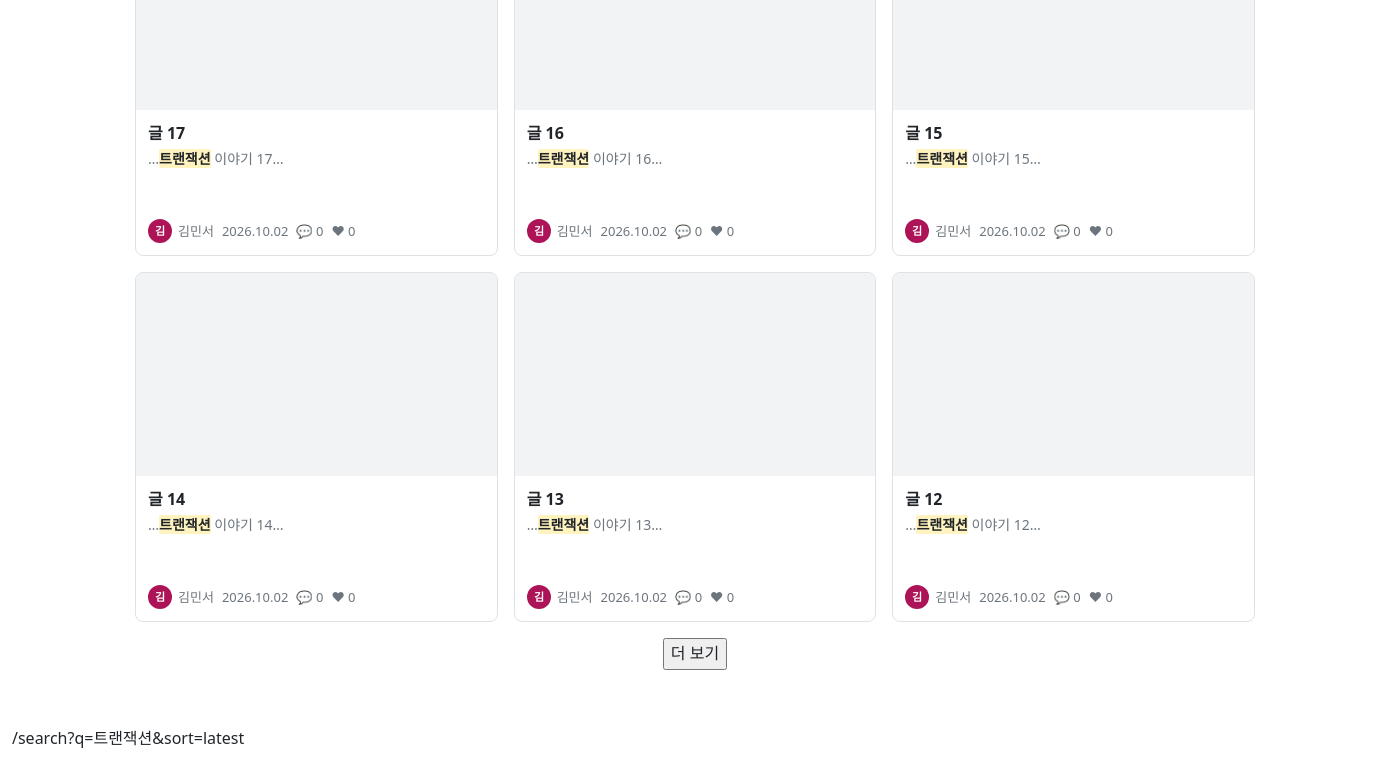
Test: SearchPage › [더 보기]는 nextCursor를 그대로 보내고 아래에 이어 붙인다
(page scrolled)
Click the button "더 보기": point(695, 654) [663,638,727,670]
(page scrolled)
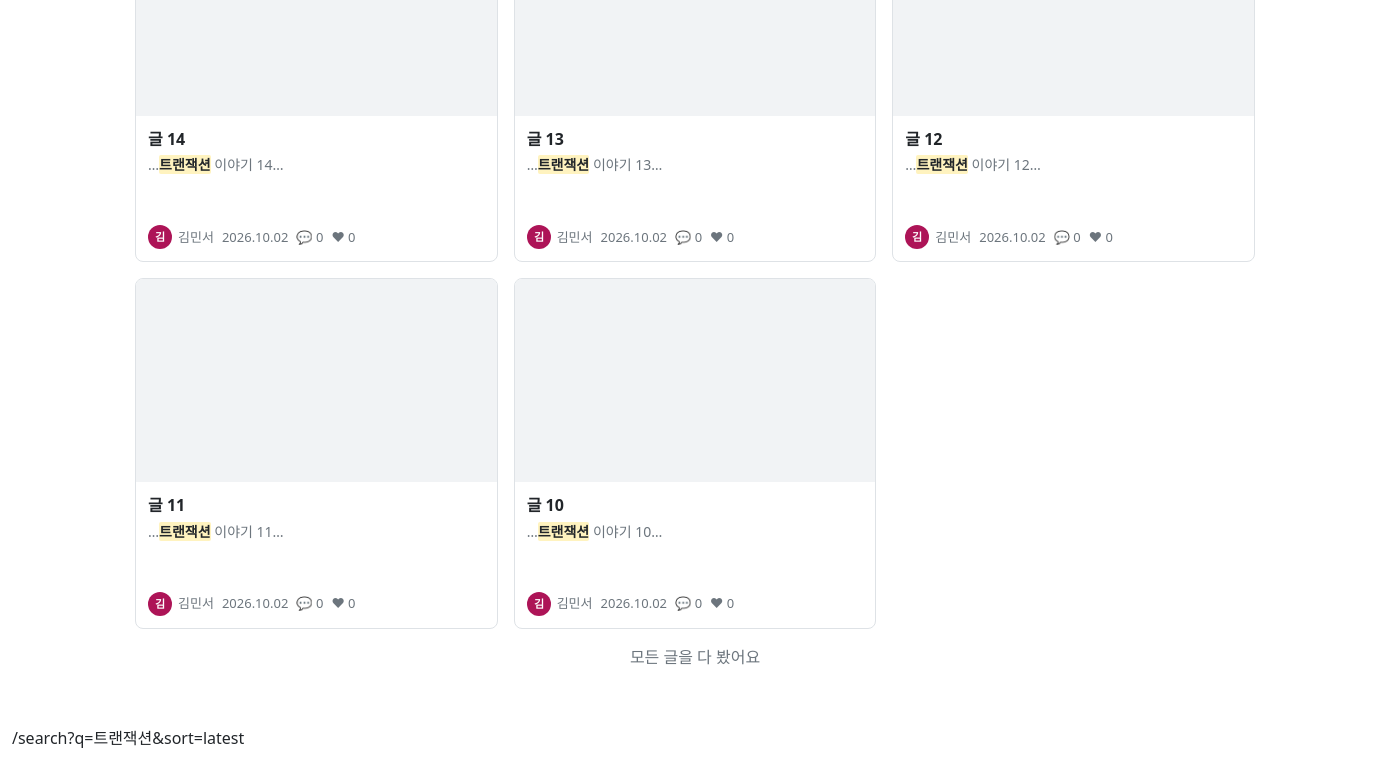
Now the number of elements with test id "post-card" is 11
Now the text "모든 글을 다 봤어요" is shown, box [630,646,760,668]
